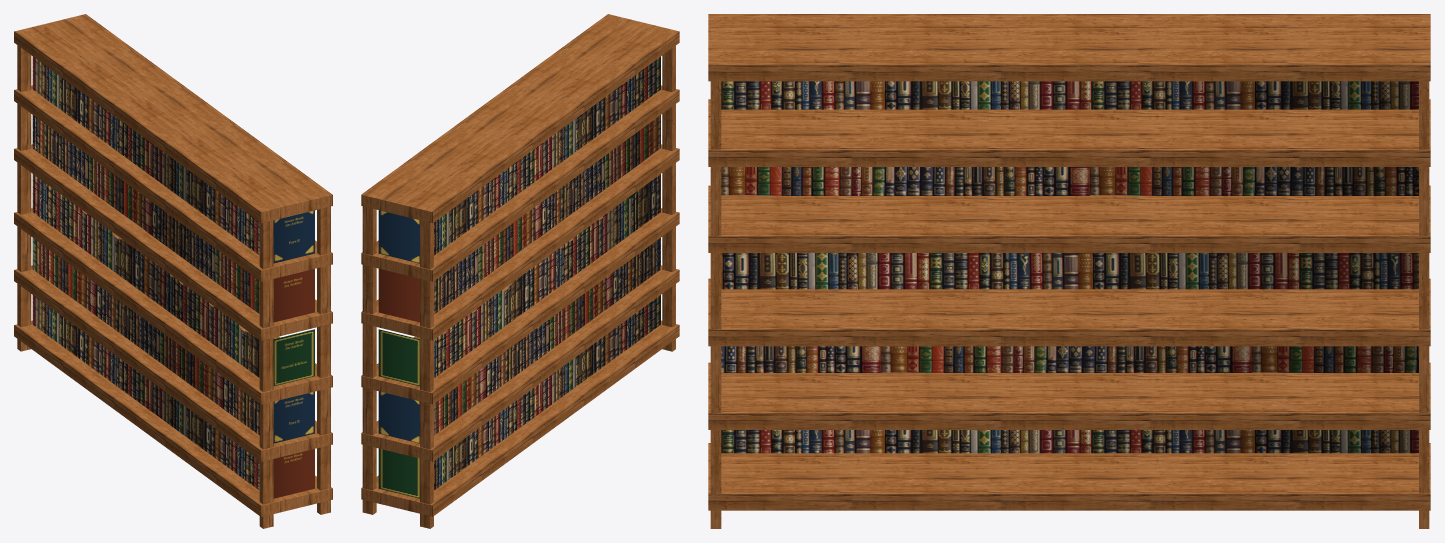
Rendered from BookShelf.FBX.
The picture shows the model from 3 angles, left to right: view 1: azimuth 30°, elevation 25°; view 2: azimuth 150°, elevation 25°; view 3: azimuth 270°, elevation 25°; orthographic projection. The views are drawn at different scales.
Visible parts, largest first — view 1: RegalSmall, Books; view 2: RegalSmall, Books; view 3: RegalSmall, Books.
Boxes of the visible parts, x1,y1,x2,y2 form: RegalSmall: (14, 14, 332, 528); Books: (32, 56, 314, 498); RegalSmall: (361, 14, 679, 528); Books: (378, 56, 660, 498); RegalSmall: (708, 14, 1430, 528); Books: (721, 81, 1418, 453).
Size of the model in its own units: 20.64 by 87.4 by 123.
